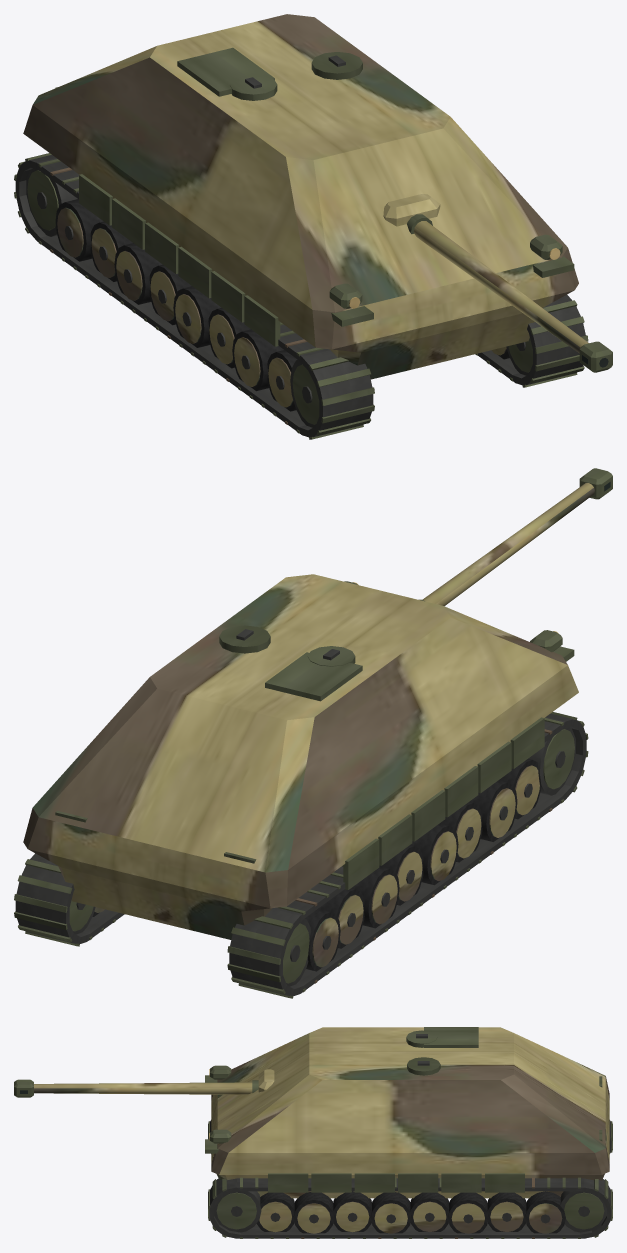
File: jagdpanther.glb
The picture shows the model from 3 angles, top to bottom: view 1: azimuth 30°, elevation 25°; view 2: azimuth 150°, elevation 25°; view 3: azimuth 270°, elevation 25°; orthographic projection. The views are drawn at different scales.
Visible parts, largest first — view 1: Jagdpanther; view 2: Jagdpanther; view 3: Jagdpanther.
Part boxes in pixels (x1,y1,x2,y2): Jagdpanther: [14, 14, 612, 439]; Jagdpanther: [14, 468, 612, 998]; Jagdpanther: [14, 1027, 612, 1238].
Bounding box in the file's own units: 3.38 × 2.73 × 9.95.
1 material, 1 textured.
